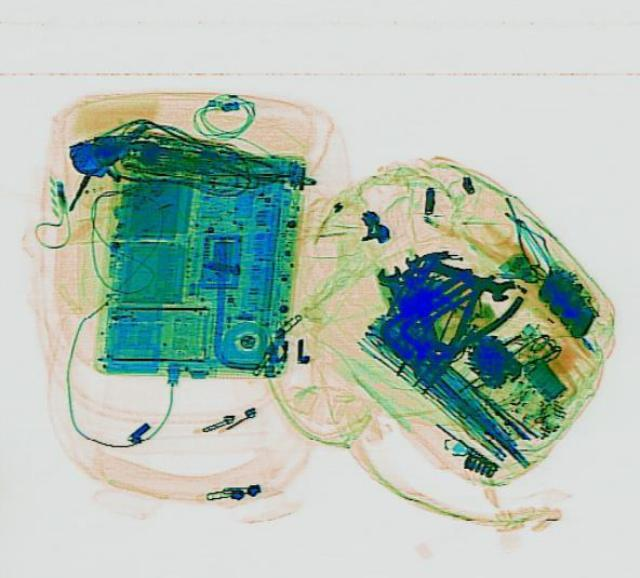Pliers: (394, 272, 526, 404)
Wrench: (393, 245, 517, 303), (372, 261, 420, 325)
